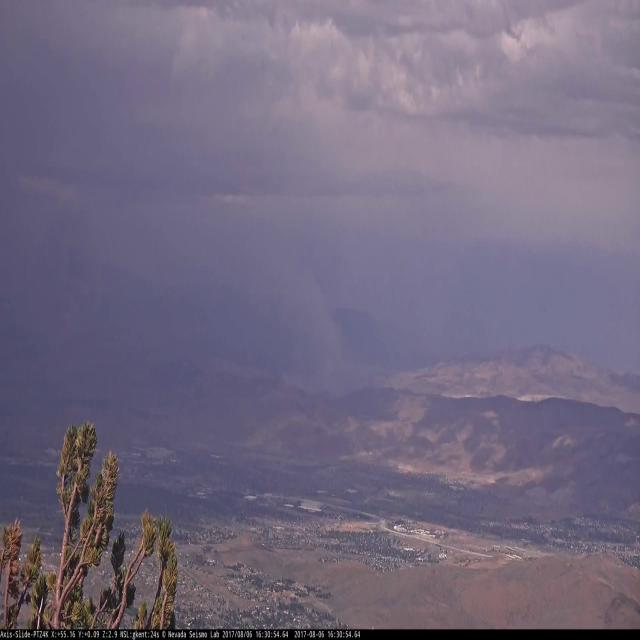smoke: (246, 247, 351, 402)
